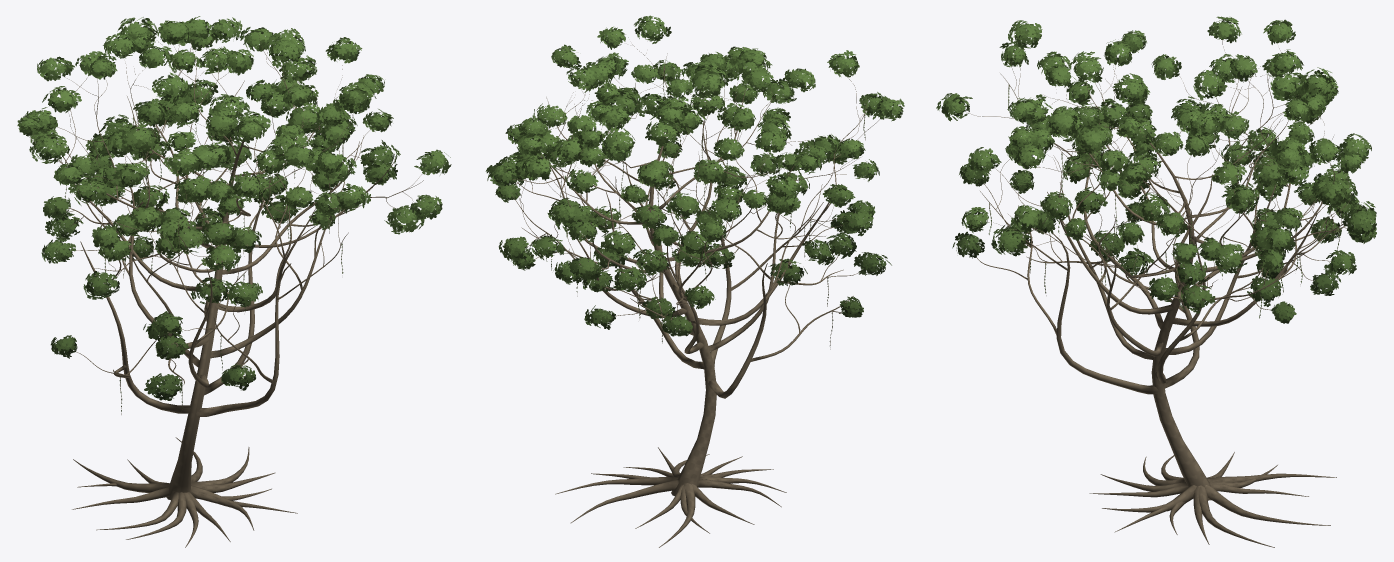
The model's file is tree.gltf.
3 views of the same model, side by side, from view 1: azimuth 30°, elevation 25°; view 2: azimuth 150°, elevation 25°; view 3: azimuth 270°, elevation 25° (orthographic). The views are drawn at different scales.
Visible parts, largest first — view 1: Tree_LOD0; view 2: Tree_LOD0; view 3: Tree_LOD0.
Boxes of the visible parts, x1=… form: Tree_LOD0: x1=17, y1=16, x2=451, y2=547; Tree_LOD0: x1=485, y1=15, x2=904, y2=547; Tree_LOD0: x1=936, y1=16, x2=1376, y2=547.
Size of the model in its own units: 104 by 113 by 103.
2 materials, 2 textured.
